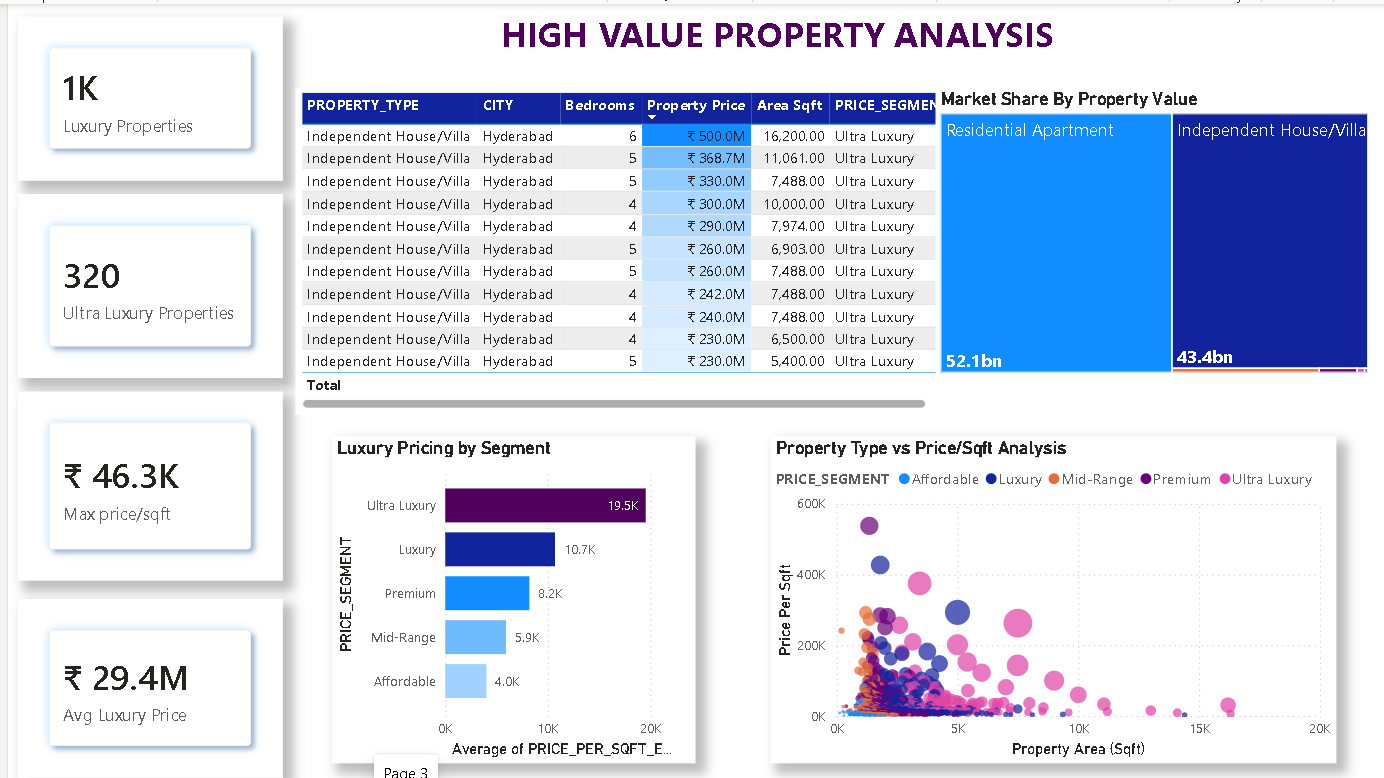

Layout of this report page (visuals, bound fields, positions):
{"tool":"powerbi","page":{"name":"Page 3","canvas":[1280,720],"ordinal":2},"visuals":[{"type":"cardVisual","fields":{"Data":["final_realty_mysql_ready.Luxury Properties"]},"box":[8.8,11.2,246.2,152.5],"z":0},{"type":"cardVisual","fields":{"Data":["final_realty_mysql_ready.Ultra Luxury Properties"]},"box":[8.8,176.2,246.2,171.2],"z":1000},{"type":"cardVisual","fields":{"Data":["final_realty_mysql_ready.Highest Price per Sqft"]},"box":[8.8,360,246.2,176.2],"z":2000},{"type":"cardVisual","fields":{"Data":["final_realty_mysql_ready.Avg Luxury Price"]},"box":[8.8,553.8,246.2,166.2],"z":3000},{"type":"tableEx","fields":{"Values":["final_realty_mysql_ready.PROPERTY_TYPE","final_realty_mysql_ready.CITY","final_realty_mysql_ready.BEDROOM_NUM","final_realty_mysql_ready.PRICE_CLEAN","final_realty_mysql_ready.AREA_CLEAN","final_realty_mysql_ready.PRICE_SEGMENT"]},"box":[267.5,77.5,605,303.8],"z":4000},{"type":"treemap","title":"Market Share By Property Value","fields":{"Values":["Sum(final_realty_mysql_ready.PRICE_CLEAN)"],"Group":["final_realty_mysql_ready.PROPERTY_TYPE"]},"box":[862.5,77.5,407.5,270],"z":5000},{"type":"clusteredBarChart","title":"Luxury Pricing by Segment","fields":{"Category":["final_realty_mysql_ready.PRICE_SEGMENT"],"Y":["Avg(final_realty_mysql_ready.PRICE_PER_SQFT_ENGINEERED)"]},"box":[301.2,402.5,338.8,303.8],"z":6000},{"type":"scatterChart","title":"Property Type vs Price/Sqft Analysis","fields":{"X":["final_realty_mysql_ready.AREA_CLEAN"],"Y":["Sum(final_realty_mysql_ready.PRICE_PER_SQFT_ENGINEERED)"],"Series":["final_realty_mysql_ready.PRICE_SEGMENT"],"Size":["Sum(final_realty_mysql_ready.PRICE_CLEAN)"]},"box":[708.8,402.5,526.2,303.8],"z":7000},{"type":"textbox","box":[365,1.2,701.2,76.2],"z":8000}]}

Visuals, with their boxes in screenshot pixels (x1, y1, x2, y2), scaled from the page's 1280x720 canvas onto the 1384x778 screenshot:
cardVisual - final_realty_mysql_ready.Luxury Properties: <box>10,12,276,177</box>
cardVisual - final_realty_mysql_ready.Ultra Luxury Properties: <box>10,190,276,375</box>
cardVisual - final_realty_mysql_ready.Highest Price per Sqft: <box>10,389,276,579</box>
cardVisual - final_realty_mysql_ready.Avg Luxury Price: <box>10,598,276,777</box>
tableEx - final_realty_mysql_ready.PROPERTY_TYPE x final_realty_mysql_ready.CITY: <box>289,84,943,412</box>
"Market Share By Property Value" treemap: <box>933,84,1373,375</box>
"Luxury Pricing by Segment" clusteredBarChart: <box>326,435,692,763</box>
"Property Type vs Price/Sqft Analysis" scatterChart: <box>766,435,1335,763</box>
textbox: <box>395,1,1153,84</box>
